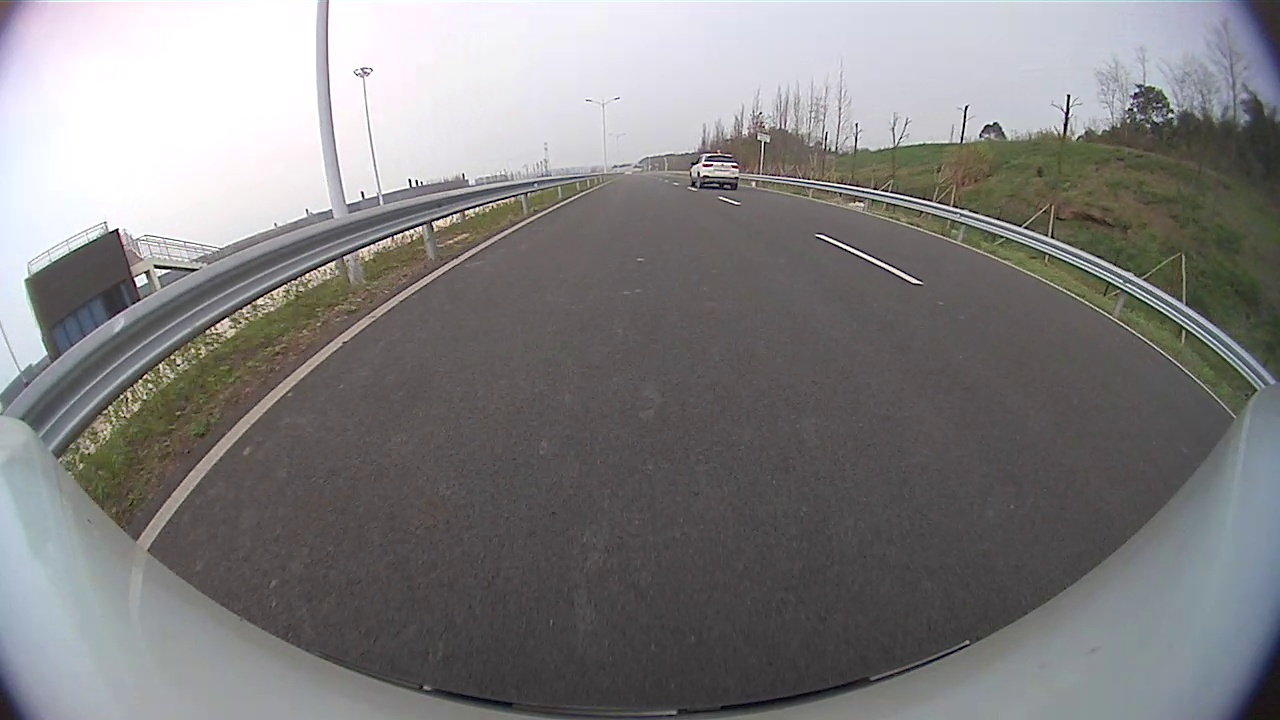car: (689, 153, 739, 189)
rear: (696, 173, 702, 188)
